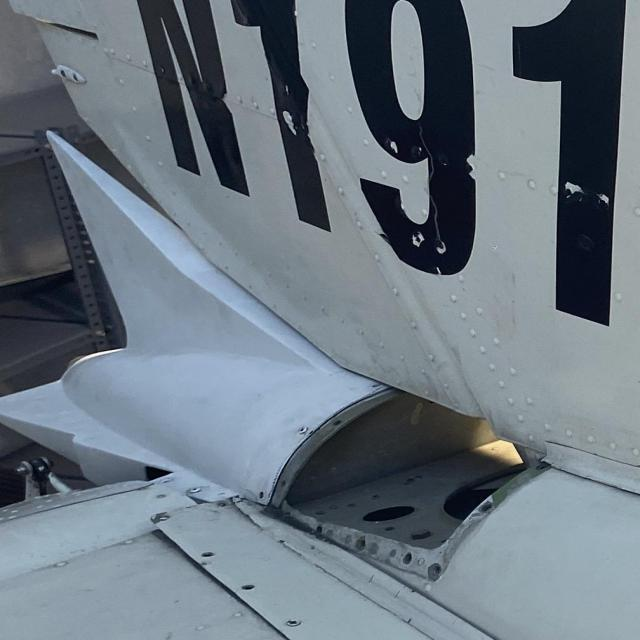Missing-head: (242, 584, 256, 591), (201, 551, 215, 558)
